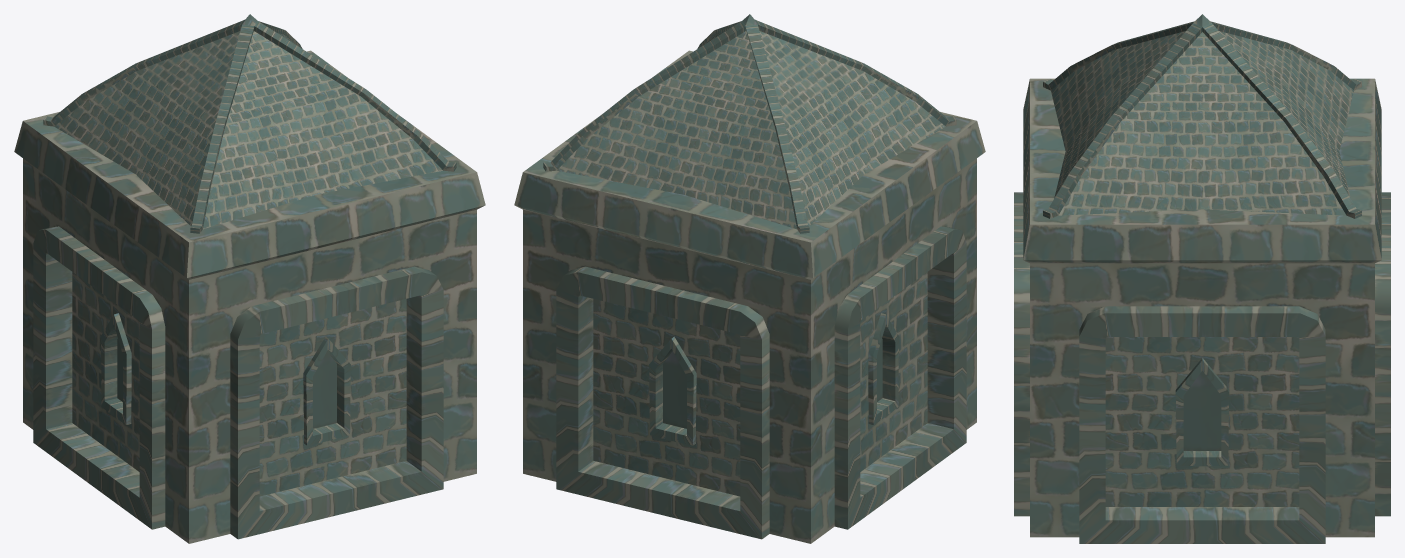
Rendered from Wallpiece_01.fbx.
3 views of the same model, side by side, from view 1: azimuth 30°, elevation 25°; view 2: azimuth 150°, elevation 25°; view 3: azimuth 270°, elevation 25° (orthographic). The views are drawn at different scales.
Visible parts, largest first — view 1: Cube.001, Cube.004, Cube.003, Cube.010, Cube.009; view 2: Cube.001, Cube.008, Cube.010, Cube.007, Cube.009, Cube.011; view 3: Cube.001, Cube.005, Cube.006, Cube.004, Cube.008.
Part boxes in pixels (bbox=[...]): Cube.001: bbox=[14, 14, 485, 543]; Cube.004: bbox=[230, 266, 443, 539]; Cube.003: bbox=[259, 299, 406, 496]; Cube.010: bbox=[33, 226, 165, 529]; Cube.009: bbox=[72, 272, 139, 471]; Cube.001: bbox=[514, 14, 985, 543]; Cube.008: bbox=[556, 266, 769, 539]; Cube.010: bbox=[834, 226, 966, 529]; Cube.007: bbox=[593, 299, 740, 496]; Cube.009: bbox=[860, 272, 927, 471]; Cube.011: bbox=[649, 336, 696, 445]; Cube.001: bbox=[1023, 14, 1381, 537]; Cube.005: bbox=[1105, 337, 1299, 506]; Cube.006: bbox=[1079, 306, 1325, 543]; Cube.004: bbox=[1014, 192, 1029, 516]; Cube.008: bbox=[1375, 192, 1390, 516].
Bounding box in the file's own units: 4.37 × 5.76 × 4.37.
